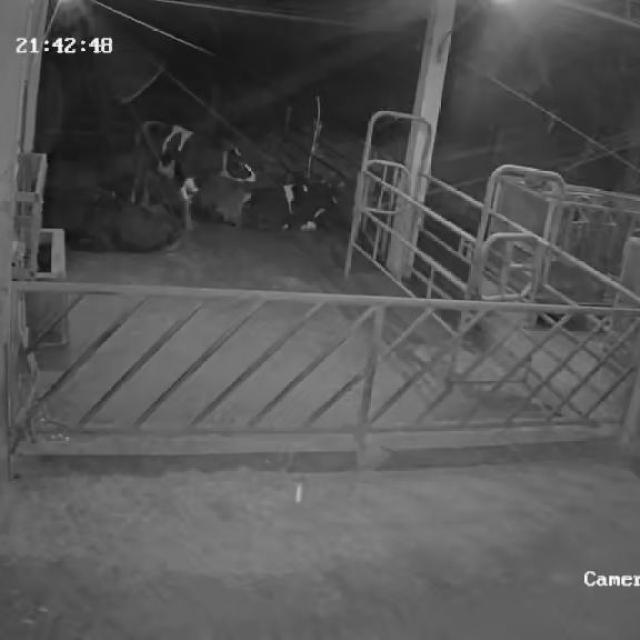lying down: (66, 189, 178, 249), (254, 170, 336, 237)
standing: (126, 119, 260, 229)
